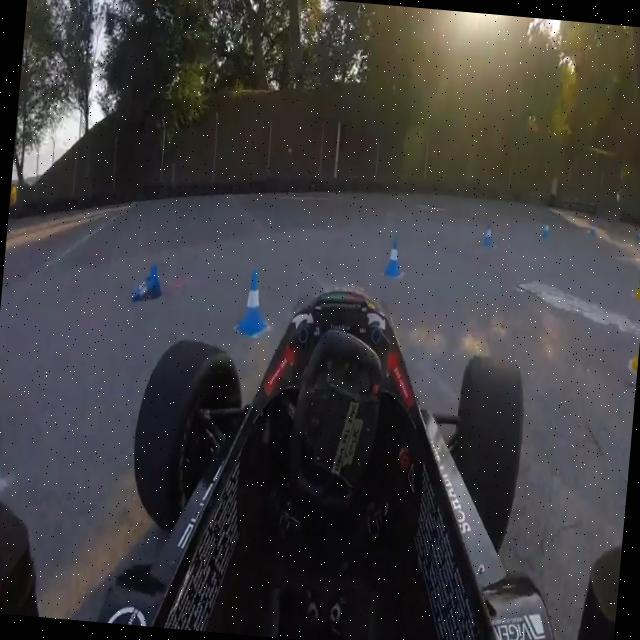blue_cone: (234, 262, 274, 344), (120, 255, 168, 311), (383, 228, 405, 284), (481, 218, 495, 250), (540, 218, 552, 240), (588, 219, 598, 244), (633, 229, 640, 241)
yellow_cone: (630, 312, 640, 372), (634, 256, 640, 306)
